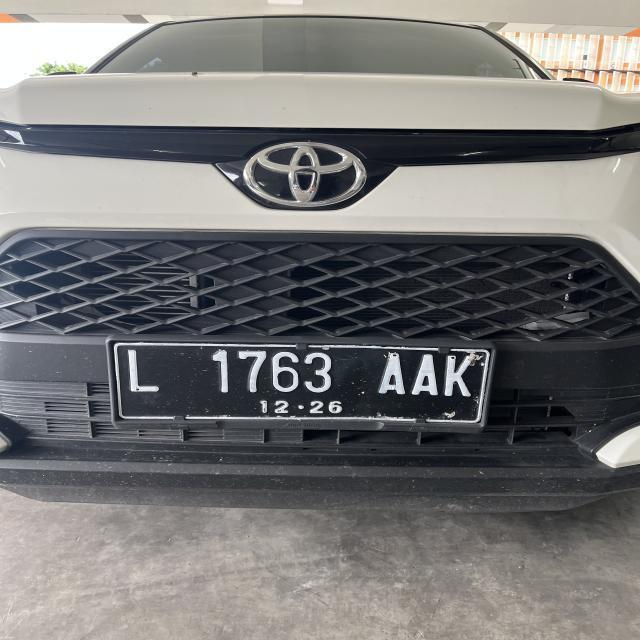1: (204, 347, 236, 395)
3: (304, 348, 331, 394)
6: (273, 352, 301, 394)
7: (241, 350, 266, 396)
A: (408, 351, 438, 401), (380, 351, 402, 399)
K: (442, 352, 474, 397)
L: (124, 346, 162, 398)
